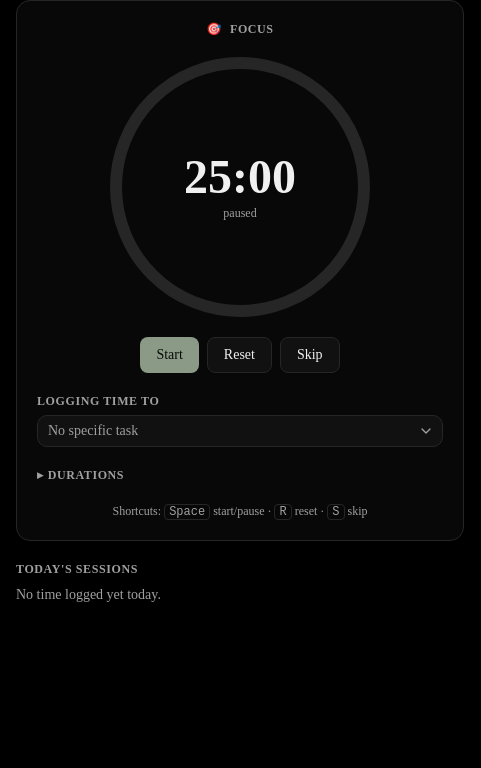
FocusTimer duration editor (H:M:S) › renders three labeled Hours / Minutes / Seconds partitions per phase
Click the button "▸ Durations": (81, 475) [37,467,124,483]
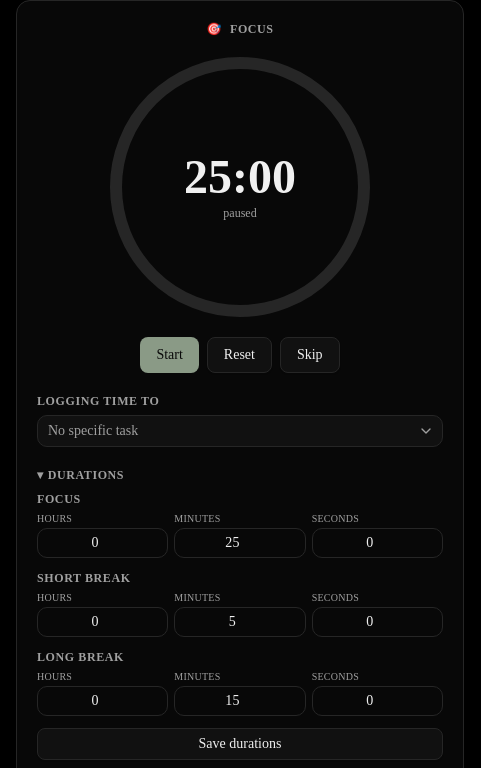
Expected: the number field named "Short break seconds" is shown, [312,607,443,637]
Expected: the number field named "Long break hours" is shown, [37,686,168,716]
Expected: the number field named "Focus hours" holds "0", [37,528,168,558]
